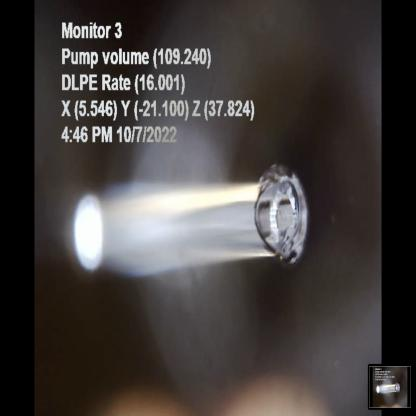Droplet: (254, 166, 311, 270)
